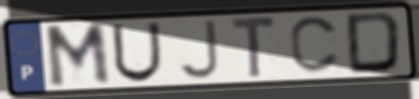C: (287, 14, 342, 76)
D: (344, 10, 404, 76)
J: (176, 18, 222, 81)
M: (42, 20, 114, 91)
T: (229, 14, 279, 82)
U: (109, 20, 164, 84)
